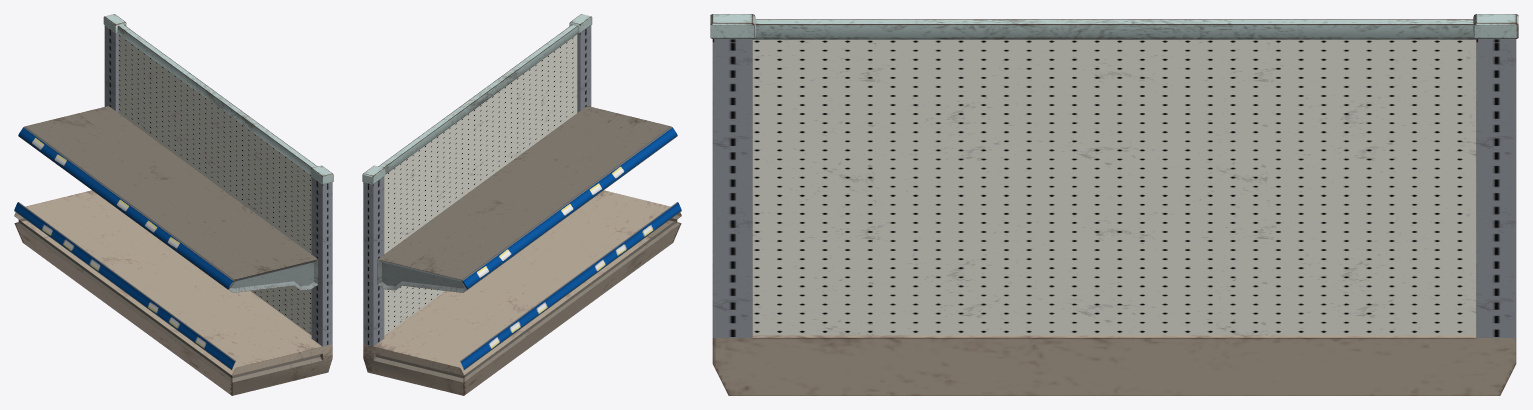
The model's file is shelf.glb.
The picture shows the model from 3 angles, left to right: view 1: azimuth 30°, elevation 25°; view 2: azimuth 150°, elevation 25°; view 3: azimuth 270°, elevation 25°; orthographic projection. The views are drawn at different scales.
Visible parts, largest first — view 1: shelf_Base_shortexp_modshelf_0; view 2: shelf_Base_shortexp_modshelf_0; view 3: shelf_Base_shortexp_modshelf_0.
Part boxes in pixels (x1,y1,x2,y2): shelf_Base_shortexp_modshelf_0: [14, 14, 333, 395]; shelf_Base_shortexp_modshelf_0: [362, 14, 681, 395]; shelf_Base_shortexp_modshelf_0: [710, 14, 1518, 395].
Size of the model in its own units: 14.02 by 26.79 by 52.62.
2 materials, 2 textured.
